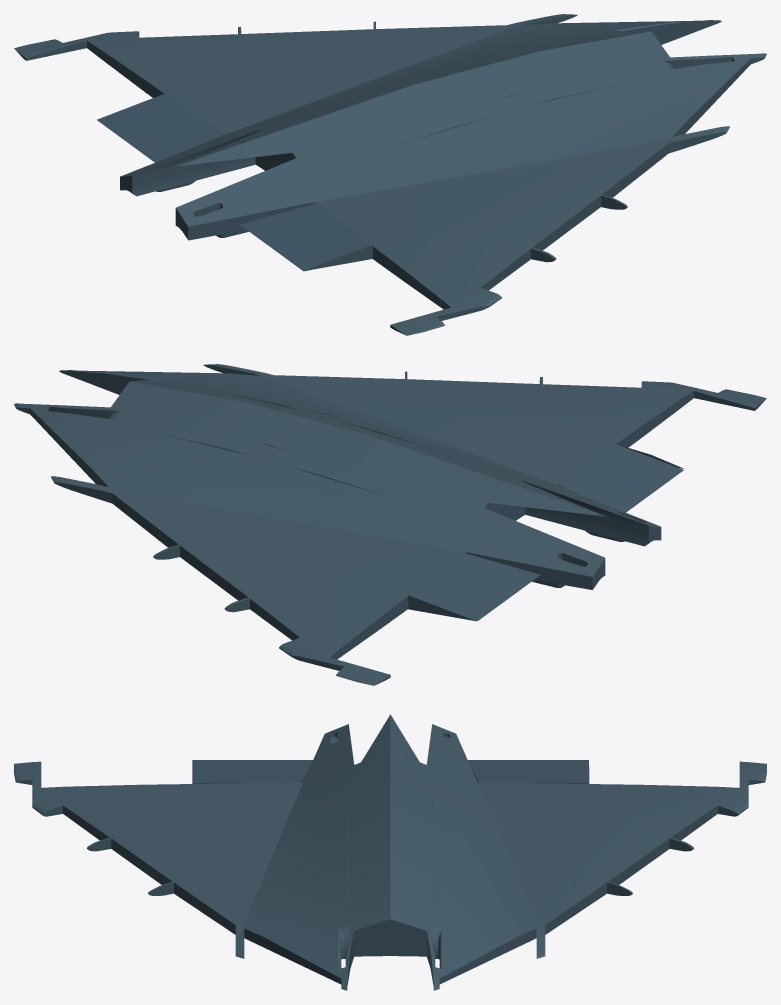
Rendered from Tejas_Navyeedit2.fbx.
The picture shows the model from 3 angles, top to bottom: view 1: azimuth 30°, elevation 25°; view 2: azimuth 150°, elevation 25°; view 3: azimuth 270°, elevation 25°; orthographic projection. The views are drawn at different scales.
Parts seen in each view (by area): view 1: Object.269, Cube, Cube.001; view 2: Object.269, Cube.001, Cube; view 3: Object.269, Cube.001, Cube.
Part boxes in pixels (x1,y1,x2,y2): Object.269: (14, 14, 766, 335); Cube: (240, 203, 372, 271); Cube.001: (97, 93, 222, 162); Object.269: (14, 364, 766, 685); Cube.001: (408, 553, 540, 621); Cube: (559, 443, 683, 512); Object.269: (14, 714, 766, 990); Cube.001: (468, 760, 589, 783); Cube: (192, 760, 312, 783).
Bounding box in the file's own units: 3840 × 471 × 4425.
